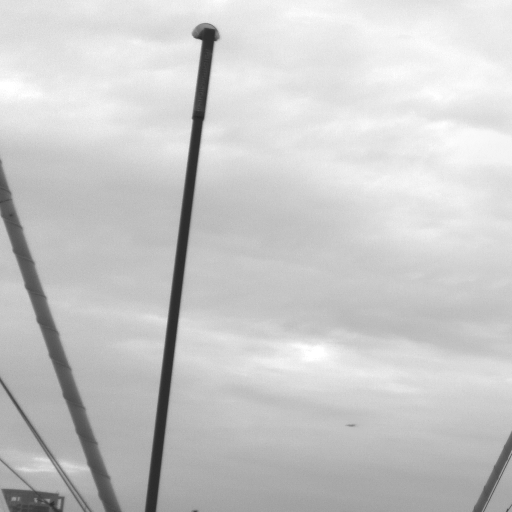uav: (345, 422, 356, 427)
